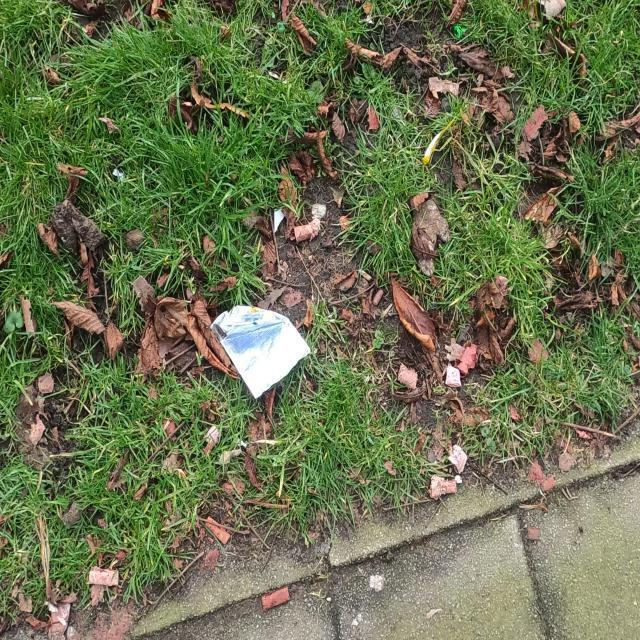Plastic: (210, 304, 312, 400)
